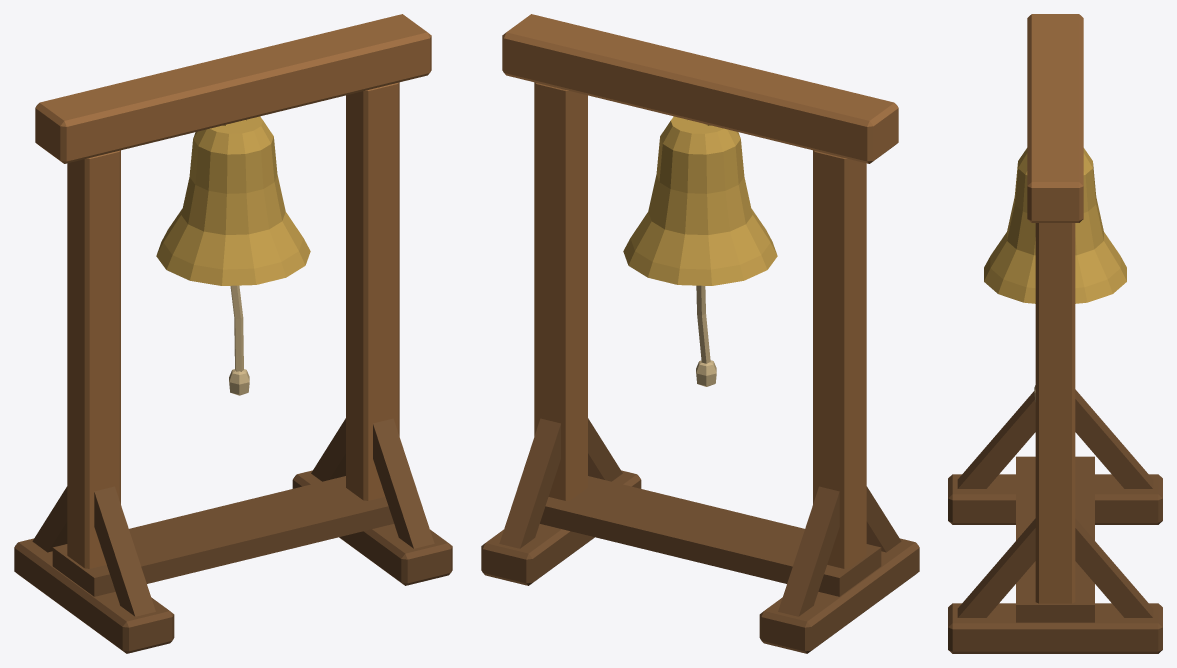
File: ship-bell.glb
3 views of the same model, side by side, from view 1: azimuth 30°, elevation 25°; view 2: azimuth 150°, elevation 25°; view 3: azimuth 270°, elevation 25° (orthographic). The views are drawn at different scales.
Visible parts, largest first — view 1: ship-bell; view 2: ship-bell; view 3: ship-bell.
Part boxes in pixels (box(x1,y1,x2,y2)): ship-bell: box(14, 14, 452, 653); ship-bell: box(481, 14, 919, 653); ship-bell: box(948, 14, 1162, 653).
Bounding box in the file's own units: 0.72 × 0.94 × 0.38.
